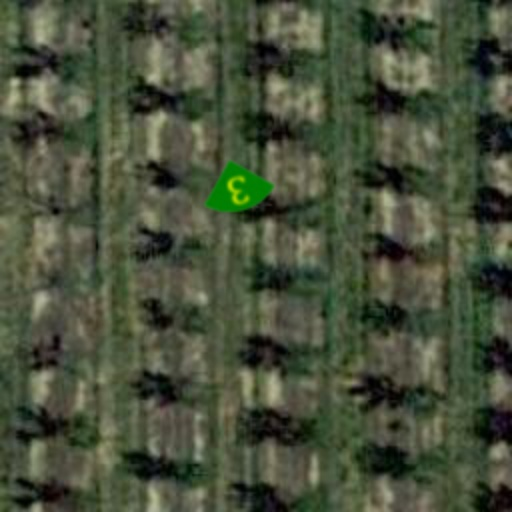quarter_circle: (194, 146, 282, 234)
